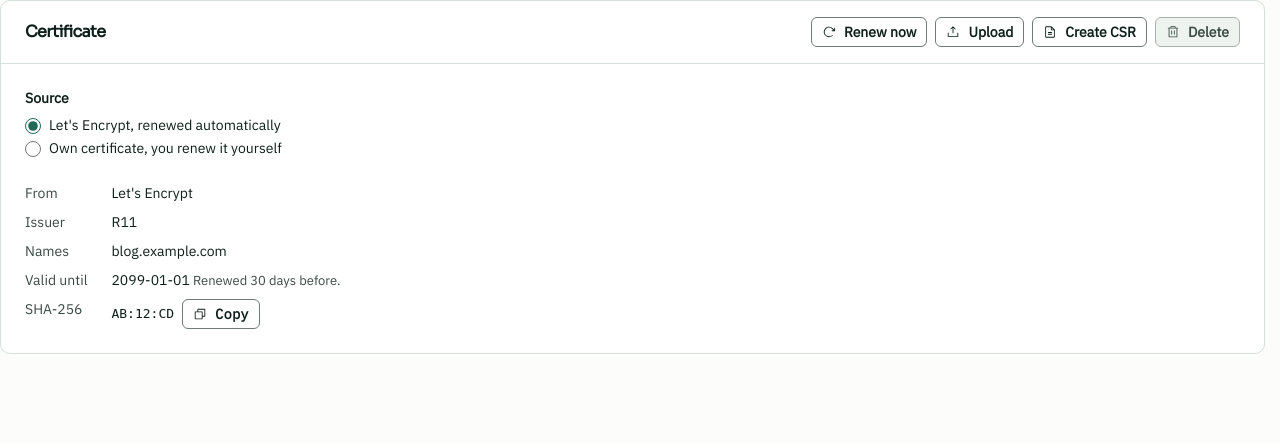
Scenario: CertificateCard › shows the live certificate and renews it
The width and height of the screenshot is (1280, 443).
Expected: the text "R11" is shown, [112,213,137,231]
Expected: the text "AB:12:CD" is shown, [112,304,174,324]
Click the button "Renew now" at (869, 32), box [811,17,927,47]
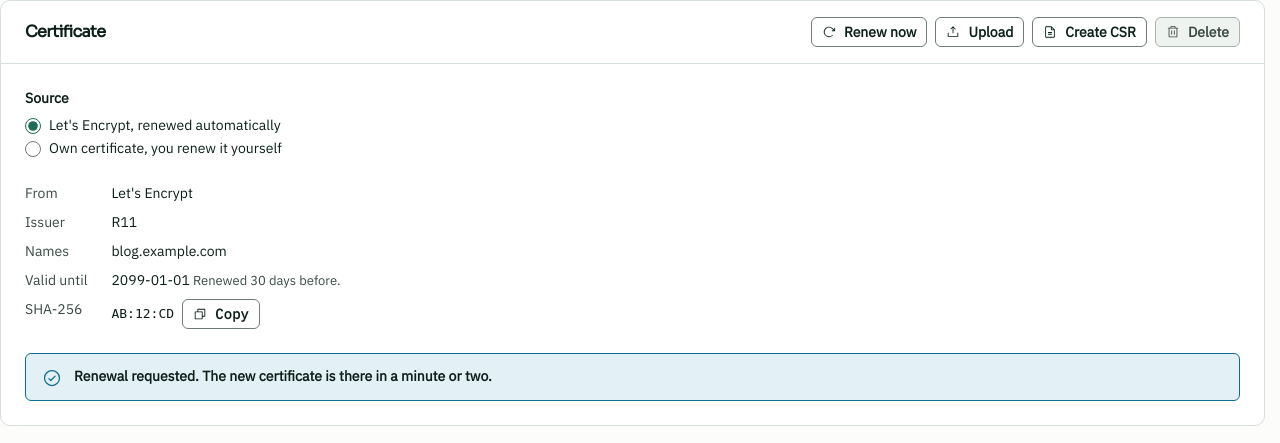
Expected: the text "Renewal requested" is shown, [74,367,492,385]
